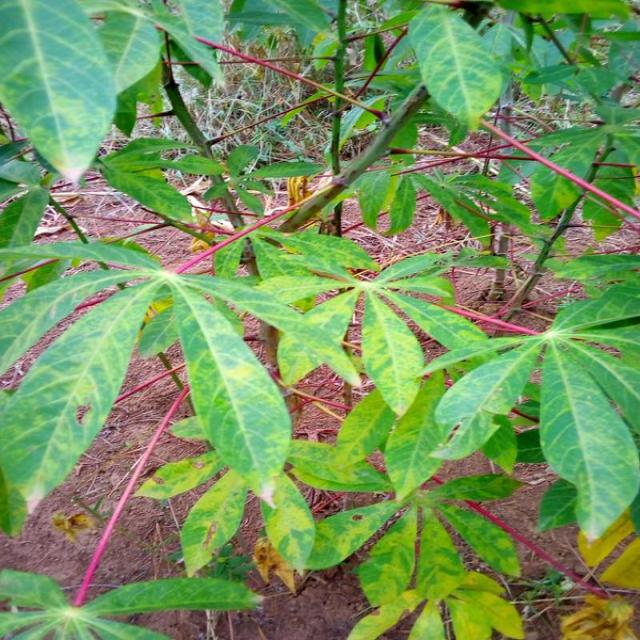Mosaico: (27, 240, 323, 475), (144, 423, 443, 575), (314, 436, 512, 592), (285, 247, 469, 394), (376, 547, 552, 640), (118, 132, 204, 214)
